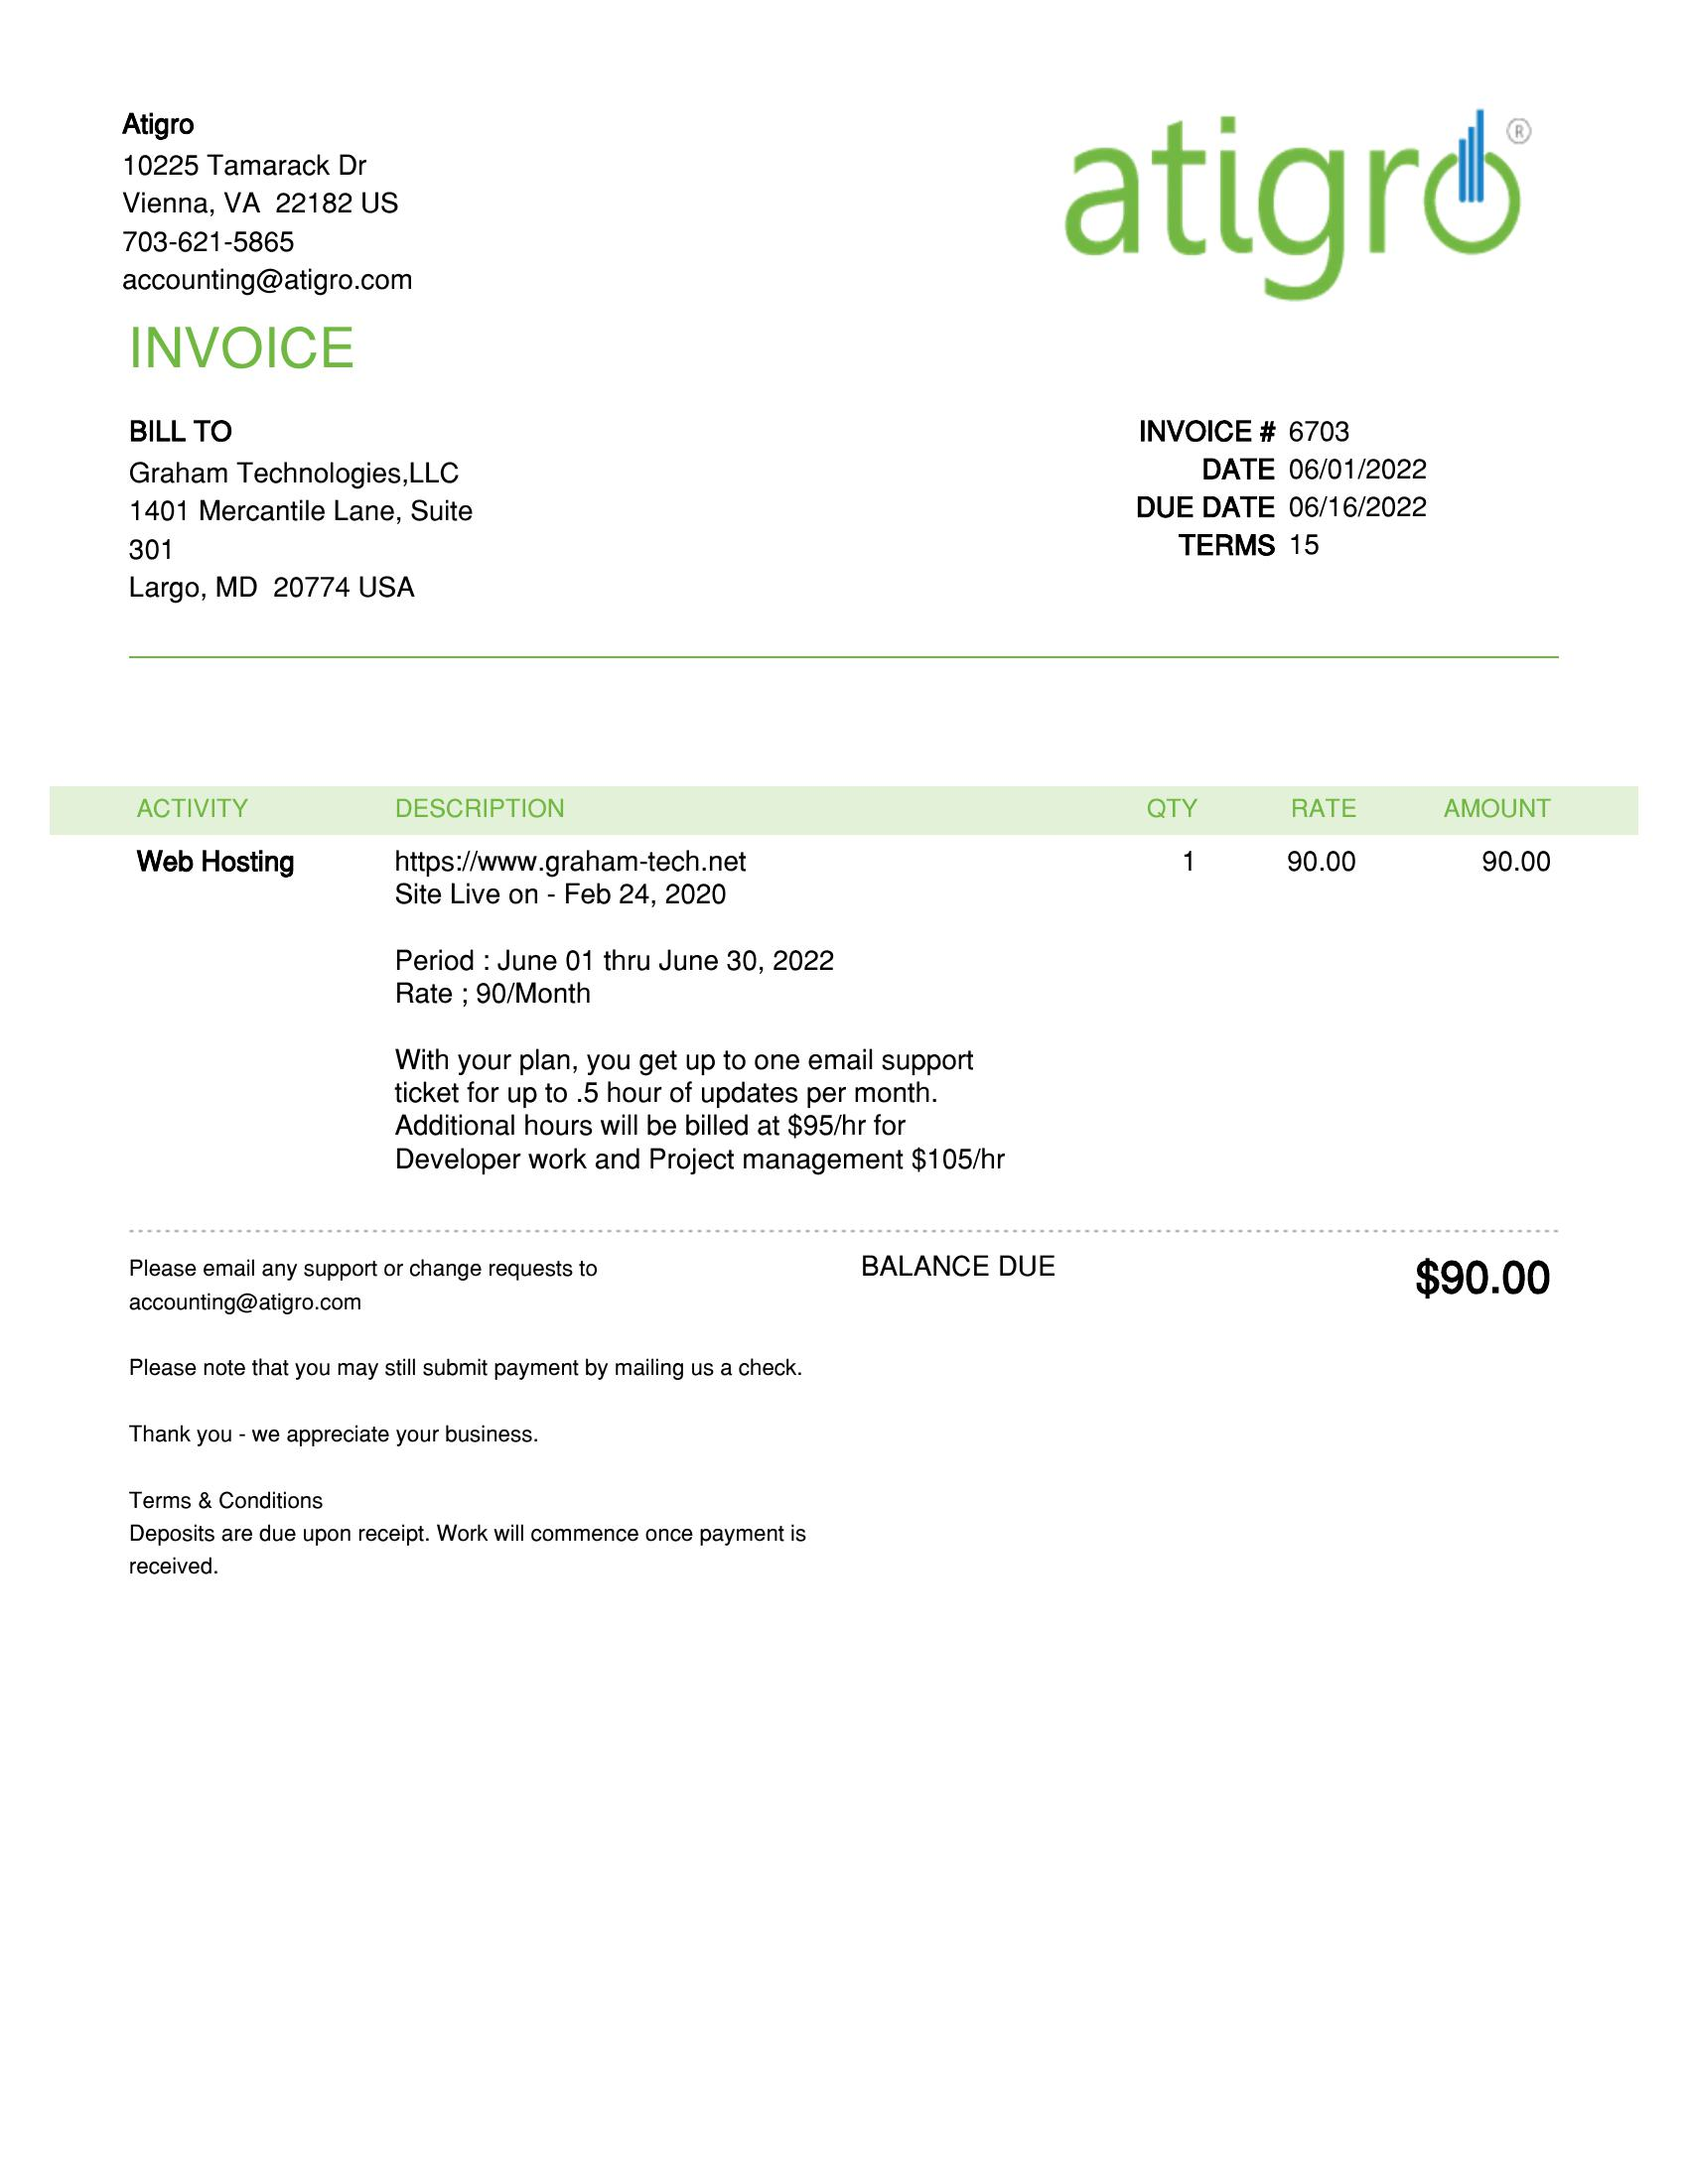table: (46, 762, 1651, 1236)
